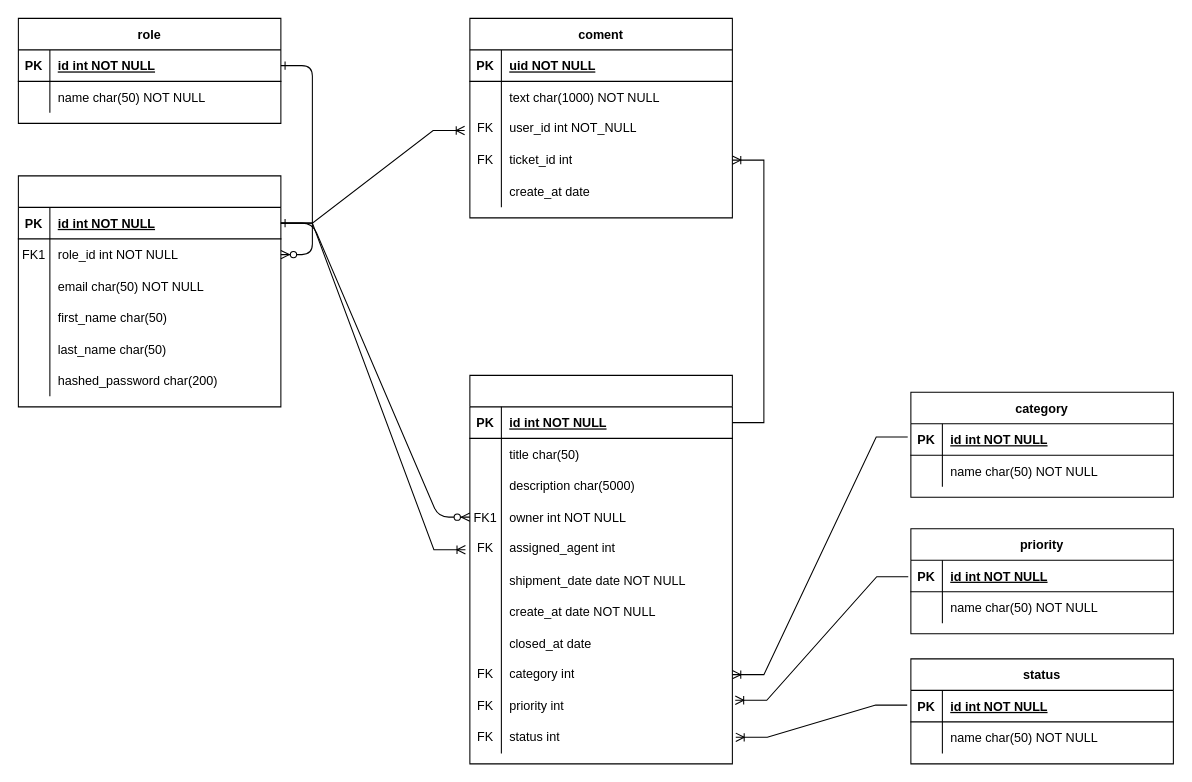
The diagram is 1192 pixels wide and 782 high, and some of its shapes have lost their labels. Each missing label, with the box of its shape:
ticket: (469, 374, 732, 764)
user: (17, 175, 281, 407)
